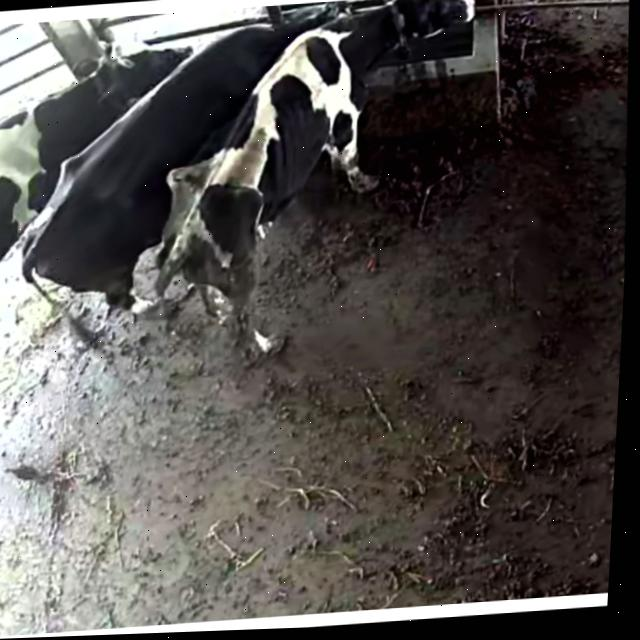drink: (209, 0, 356, 99)
